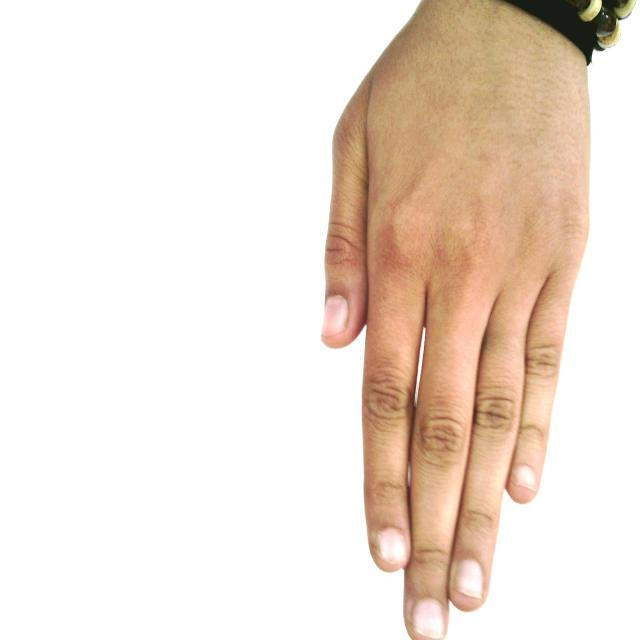Fingernail: (413, 600, 445, 639), (456, 559, 484, 598), (378, 529, 408, 564), (323, 296, 347, 335), (514, 466, 535, 489)
